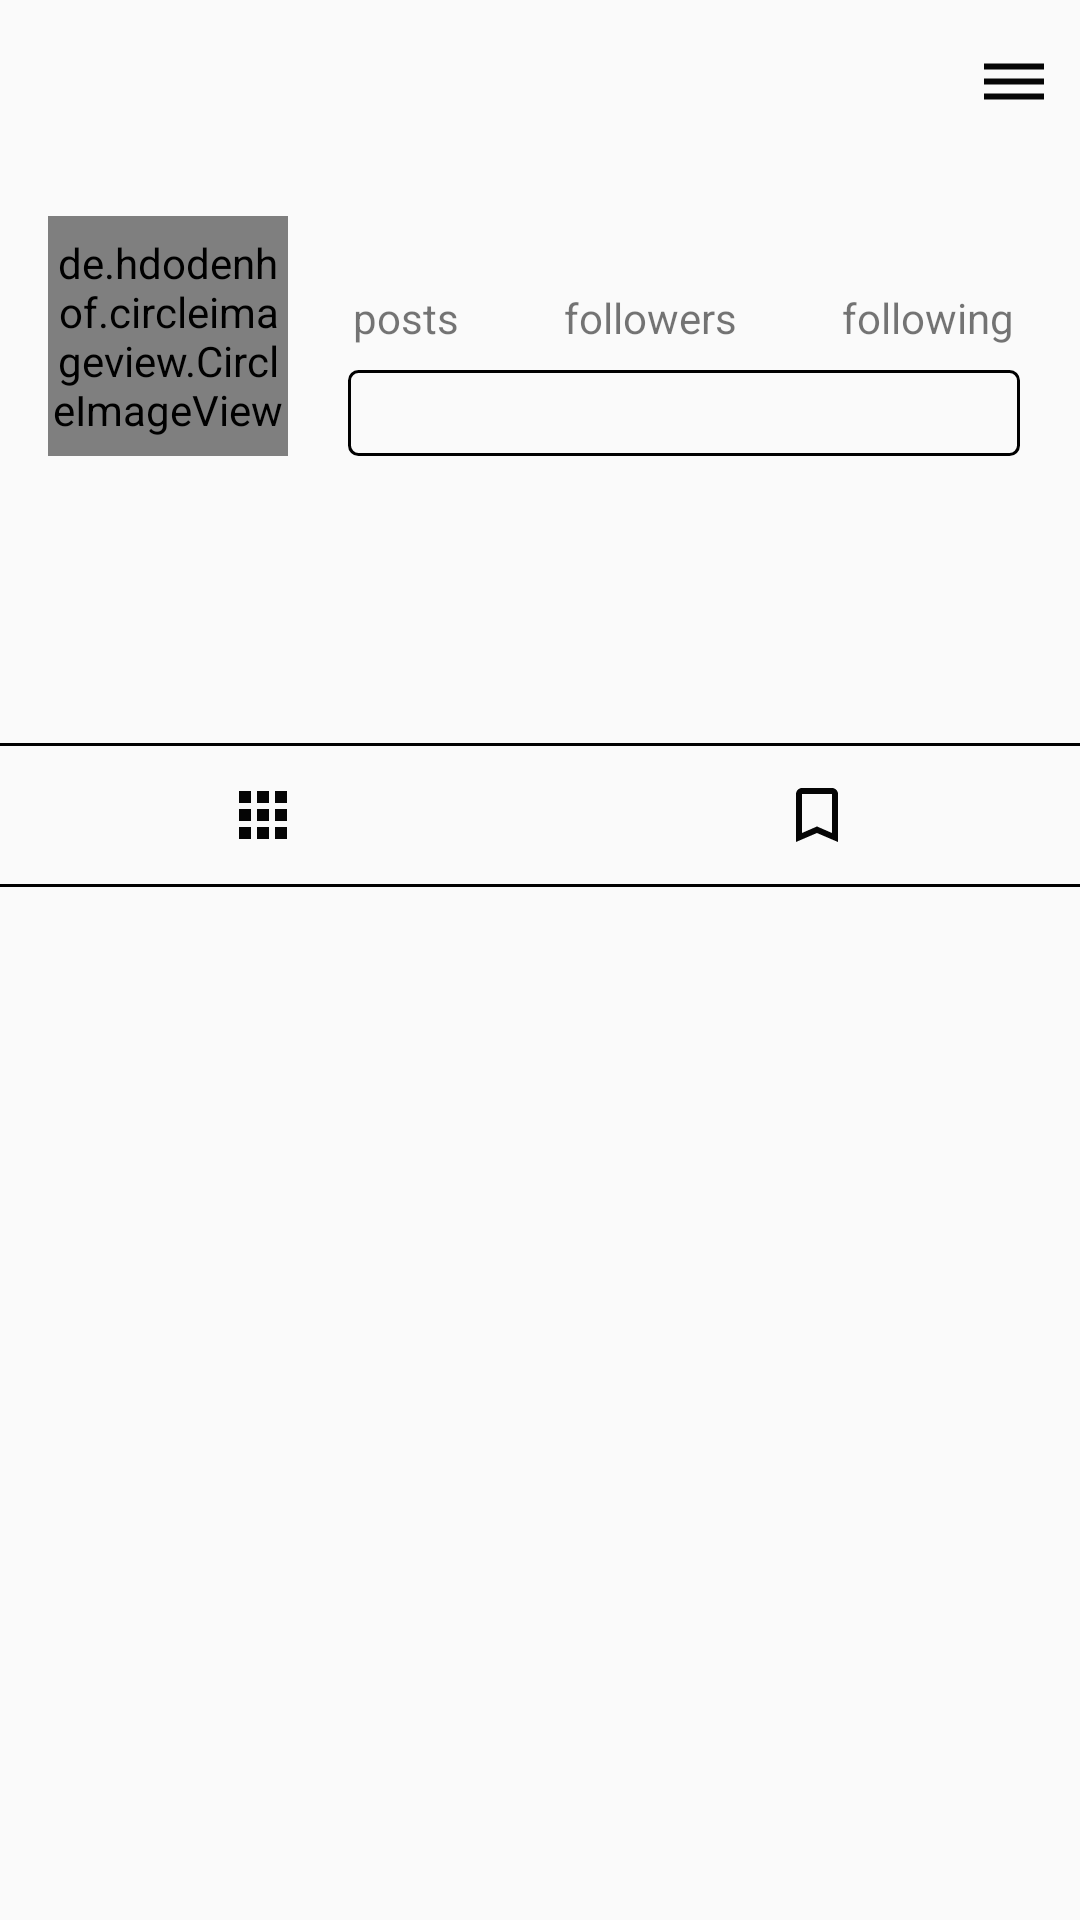

Icon bounding boxes for this 1080 × 1920 phone screenshot, format rect(x1, y1, x2, y2):
options: rect(984, 63, 1044, 100)
